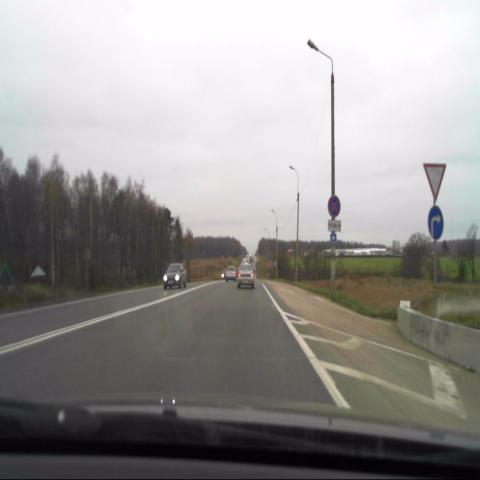2_4: (422, 160, 448, 202)
3_27: (327, 195, 341, 219)
4_1_2: (428, 206, 444, 240)
